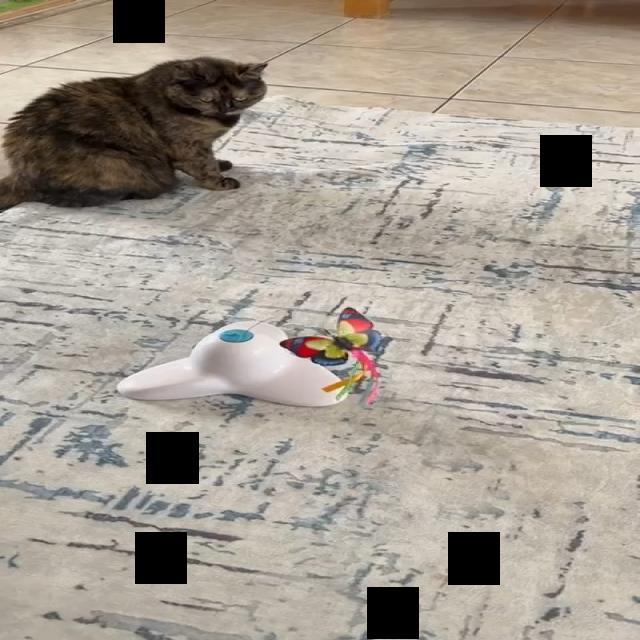authorized: (0, 55, 268, 211)
